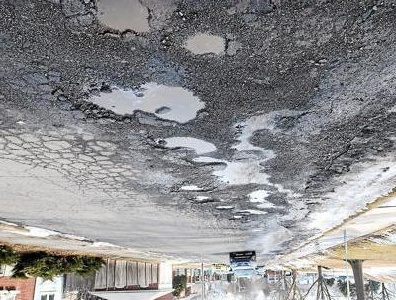pothole: (81, 81, 209, 126), (91, 0, 157, 40), (151, 137, 218, 157), (181, 33, 228, 58), (173, 184, 209, 195), (190, 157, 225, 166), (189, 194, 214, 205), (214, 204, 236, 211)
